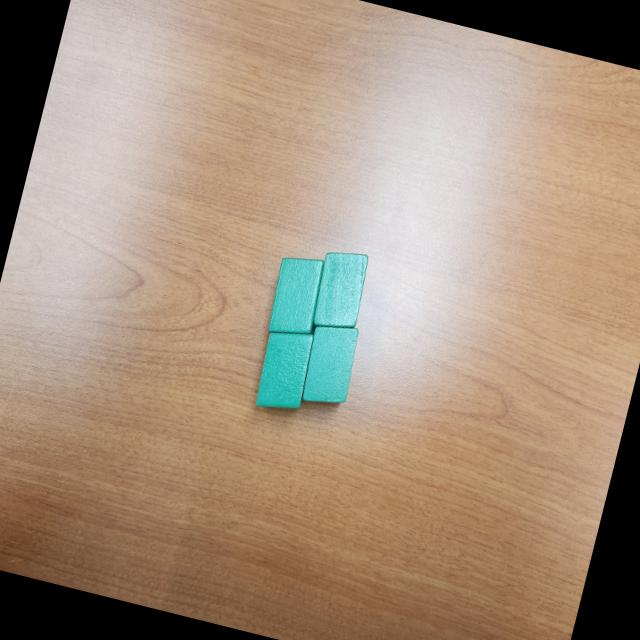green: (294, 317, 364, 412), (248, 322, 318, 416), (262, 248, 329, 342), (306, 244, 374, 336)
